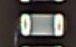COMP: (13, 11, 69, 40)
GAP: (20, 1, 65, 22)
STAN: (12, 29, 19, 47)
